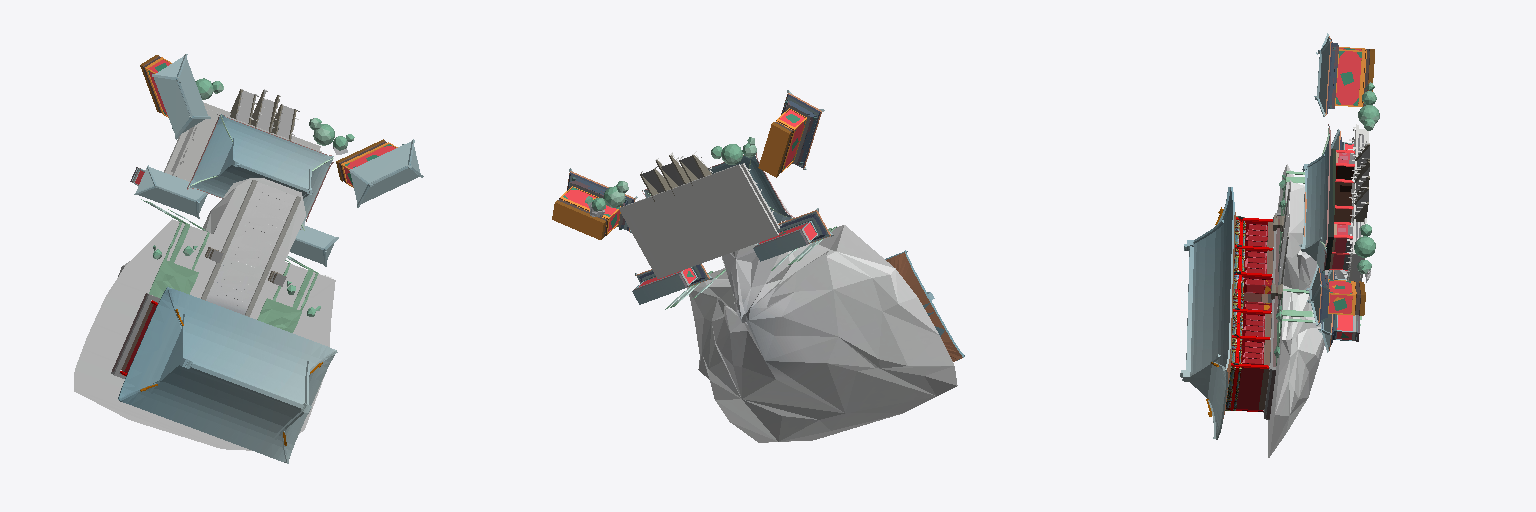
3 views of the same model, side by side, from view 1: azimuth 30°, elevation 25°; view 2: azimuth 150°, elevation 25°; view 3: azimuth 270°, elevation 25° (orthographic).
Size of the model in its own units: 60.6 by 60.75 by 28.17.
Materials: 58 (6 with a texture image).